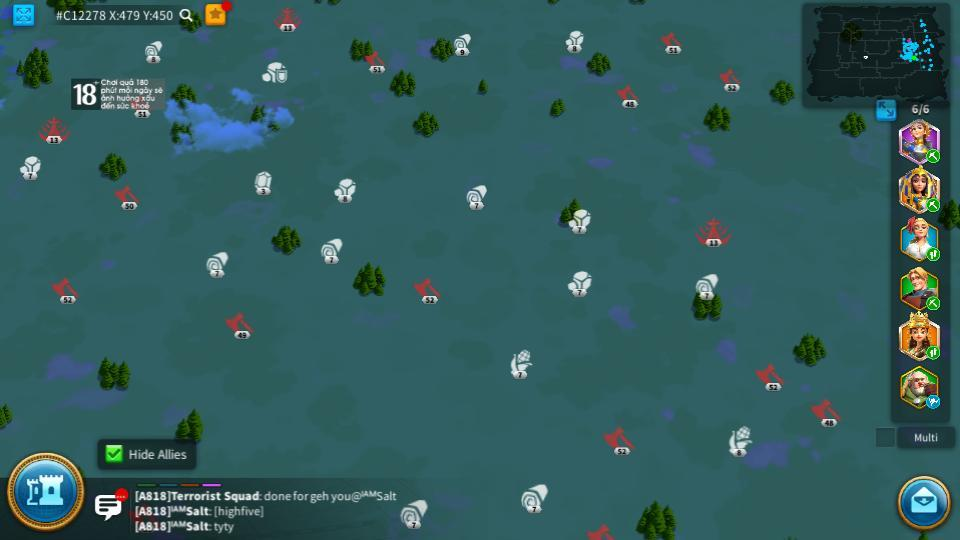gem-z-out: (254, 171, 273, 194)
march_farming: (925, 197, 941, 212), (925, 249, 941, 261)
march_idle: (925, 396, 942, 408)
march_marching: (925, 347, 941, 359), (925, 150, 941, 162), (925, 297, 942, 308)
